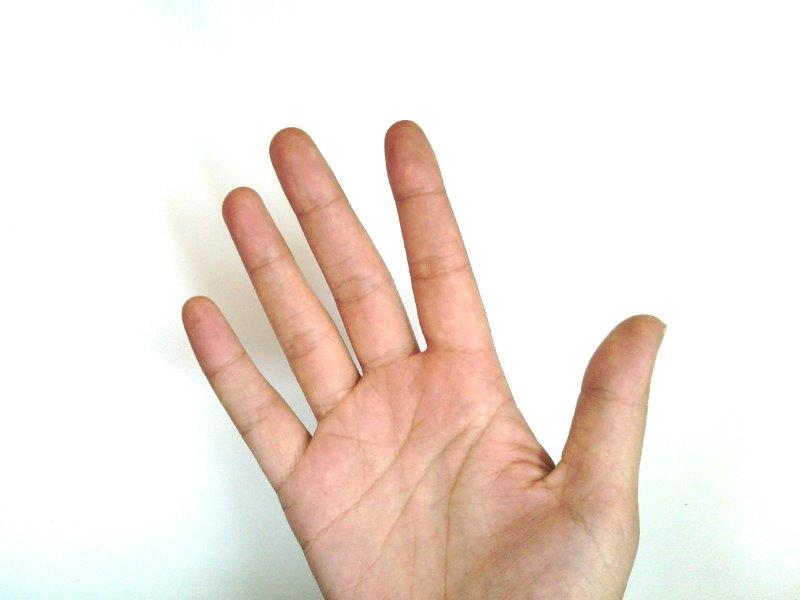hand: (182, 122, 668, 600)
